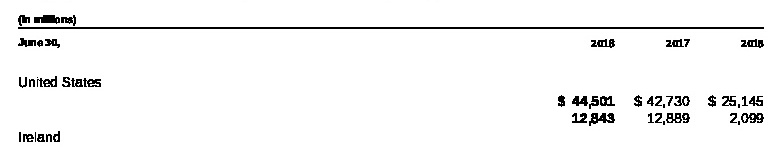table: (0, 0, 778, 166)
